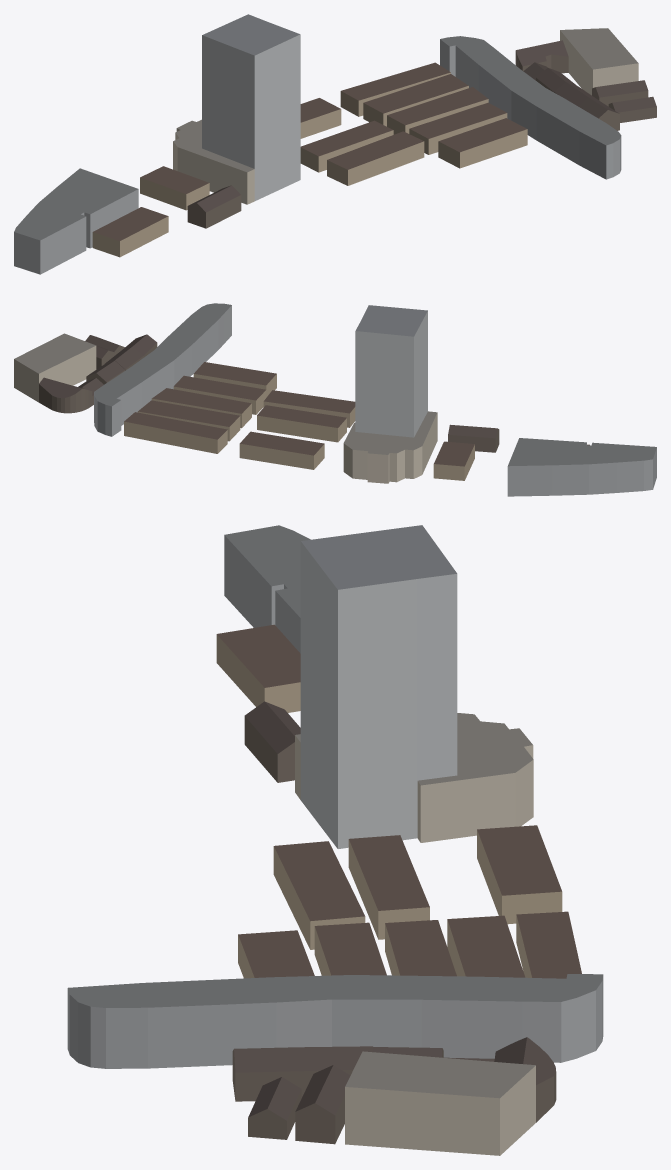
File: tile_3_11.glb
The picture shows the model from 3 angles, top to bottom: view 1: azimuth 30°, elevation 25°; view 2: azimuth 150°, elevation 25°; view 3: azimuth 270°, elevation 25°; orthographic projection. The views are drawn at different scales.
Parts seen in each view (by area): view 1: HP-w73897689, HP-w1395808760, HP-w859078943, HP-w859078998, HP-w1395861828, HP-w859078977, HP-w859078975, HP-w859078957, HP-w859078980, HP-w859078968, HP-w859078981, HP-w859078978 (+10 smaller); view 2: HP-w73897689, HP-w859078943, HP-w1395808760, HP-w1395861828, HP-w859078998, HP-w859078981, HP-w859078967, HP-w859078968, HP-w859078980, HP-w859078977, HP-w859078978, HP-w859078979 (+8 smaller); view 3: HP-w73897689, HP-w1395808760, HP-w859078998, HP-w1395861828, HP-w859078943, HP-w859078967, HP-w859078977, HP-w859078968, HP-w859078957, HP-w859078980, HP-w859078981, HP-w859078979 (+8 smaller).
Boxes of the visible parts, <box> form: HP-w73897689: <box>202,14,300,200</box>; HP-w1395808760: <box>440,36,621,179</box>; HP-w859078943: <box>14,168,138,274</box>; HP-w859078998: <box>560,28,638,95</box>; HP-w1395861828: <box>173,119,254,204</box>; HP-w859078977: <box>327,131,424,185</box>; HP-w859078975: <box>438,118,527,168</box>; HP-w859078957: <box>92,207,168,257</box>; HP-w859078980: <box>363,74,468,126</box>; HP-w859078968: <box>300,120,393,172</box>; HP-w859078981: <box>340,62,450,116</box>; HP-w859078978: <box>409,102,507,154</box>; HP-w73897689: <box>355,305,427,437</box>; HP-w859078943: <box>507,438,656,496</box>; HP-w1395808760: <box>94,303,231,436</box>; HP-w1395861828: <box>343,411,437,483</box>; HP-w859078998: <box>14,333,96,402</box>; HP-w859078981: <box>124,412,227,453</box>; HP-w859078967: <box>239,431,324,469</box>; HP-w859078968: <box>257,405,346,442</box>; HP-w859078980: <box>137,400,240,441</box>; HP-w859078977: <box>263,390,355,427</box>; HP-w859078978: <box>173,375,266,414</box>; HP-w859078979: <box>151,388,251,428</box>; HP-w73897689: <box>300,525,457,848</box>; HP-w1395808760: <box>67,974,603,1068</box>; HP-w859078998: <box>345,1051,535,1155</box>; HP-w1395861828: <box>295,713,533,842</box>; HP-w859078943: <box>224,525,310,653</box>; HP-w859078967: <box>477,825,562,924</box>; HP-w859078977: <box>273,841,365,949</box>; HP-w859078968: <box>348,835,429,939</box>; HP-w859078957: <box>216,624,300,712</box>; HP-w859078980: <box>447,915,525,977</box>; HP-w859078981: <box>516,911,581,978</box>; HP-w859078979: <box>385,920,456,976</box>.
Bounding box in the file's own units: 382 × 81 × 152.
